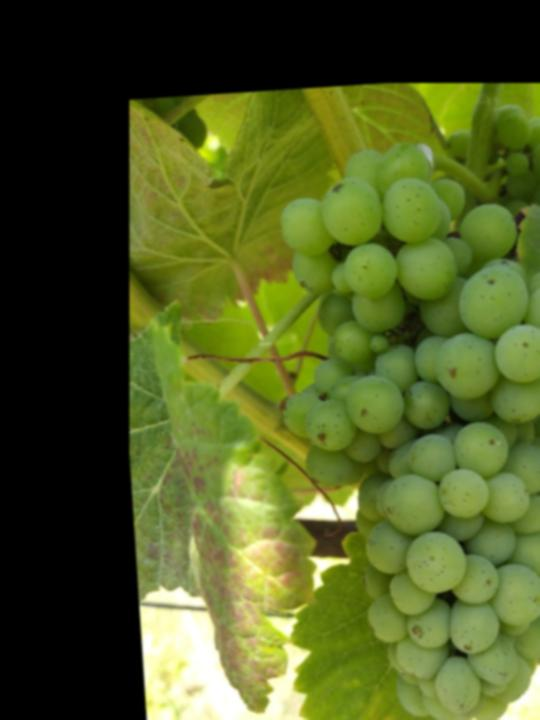grape: (259, 127, 540, 720)
